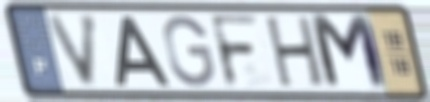A: (113, 14, 174, 88)
F: (206, 12, 263, 91)
G: (161, 13, 218, 89)
H: (264, 14, 328, 91)
M: (305, 11, 393, 93)
V: (44, 11, 102, 90)
